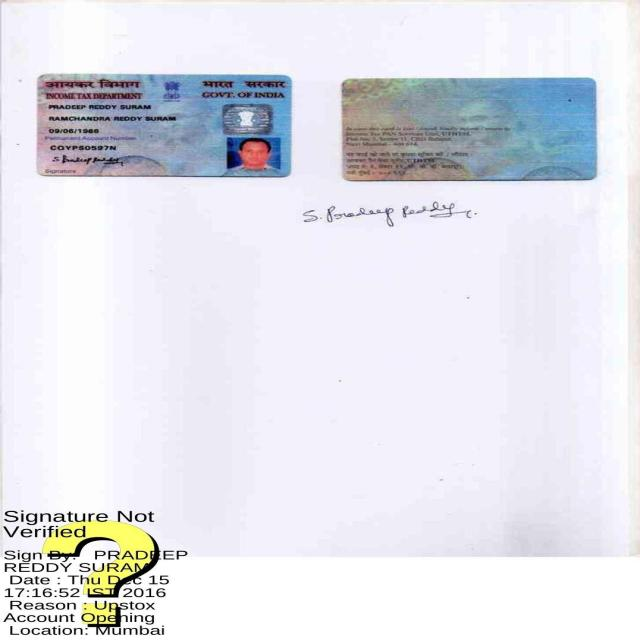pan_card: (34, 72, 290, 178), (342, 79, 596, 183)
